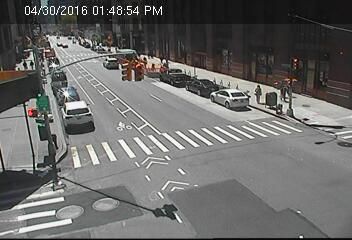neg: (131, 191, 154, 222), (72, 105, 93, 132), (45, 132, 60, 153), (167, 68, 181, 85), (145, 71, 157, 88)
pos: (249, 83, 266, 106), (276, 82, 291, 101), (27, 58, 37, 71), (20, 58, 30, 71)
